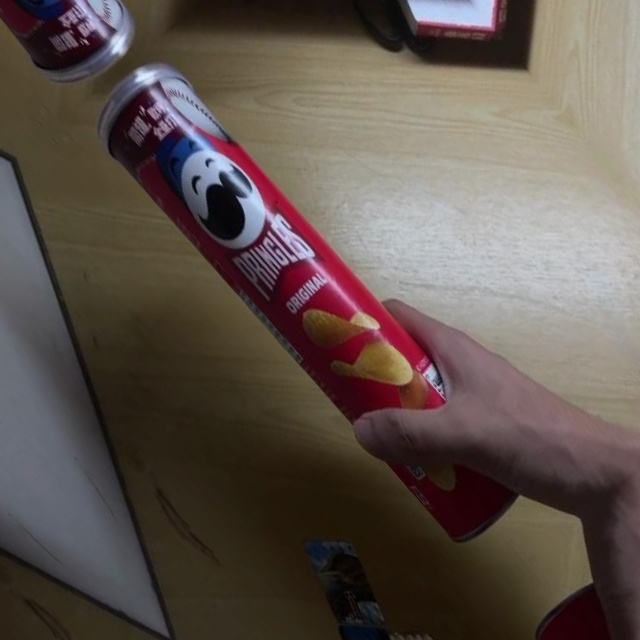Pringles: (79, 37, 547, 562)
